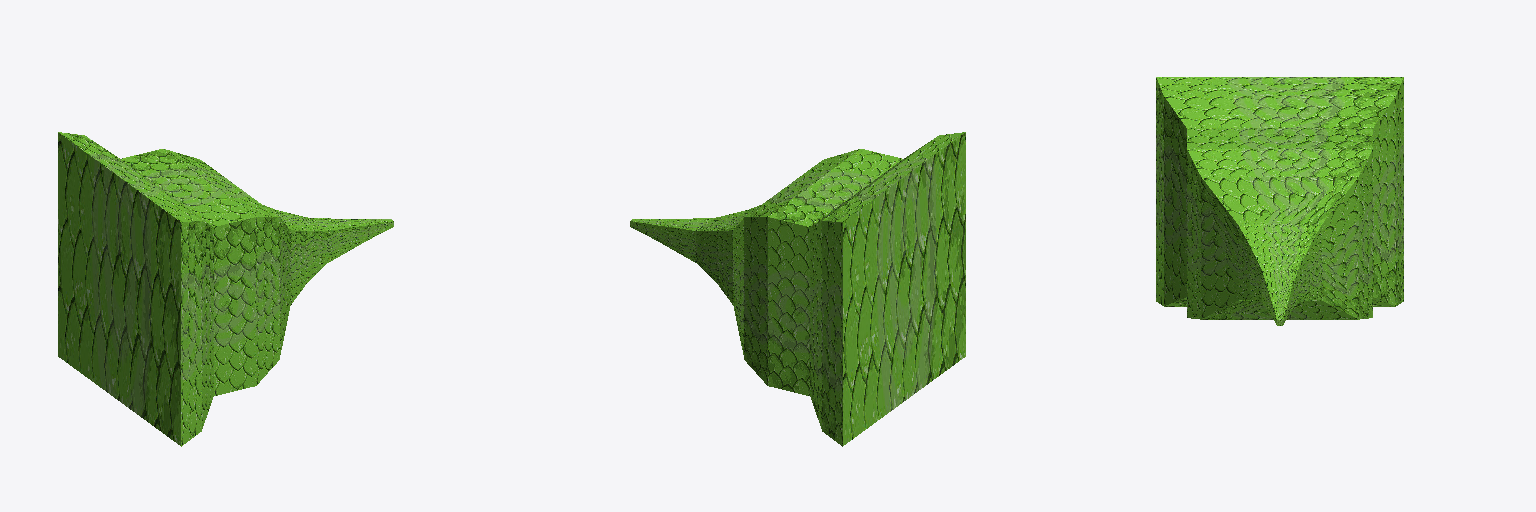
The picture shows the model from 3 angles: view 1: azimuth 30°, elevation 25°; view 2: azimuth 150°, elevation 25°; view 3: azimuth 270°, elevation 25°; orthographic projection.
Visible parts, largest first — view 1: Plane_Plane.002; view 2: Plane_Plane.002; view 3: Plane_Plane.002.
Boxes of the visible parts, <box> form: Plane_Plane.002: <box>58,132,393,446</box>; Plane_Plane.002: <box>630,132,965,446</box>; Plane_Plane.002: <box>1156,77,1403,325</box>.
Size of the model in its own units: 2.55 by 2 by 2.
Materials: 1 (1 with a texture image).